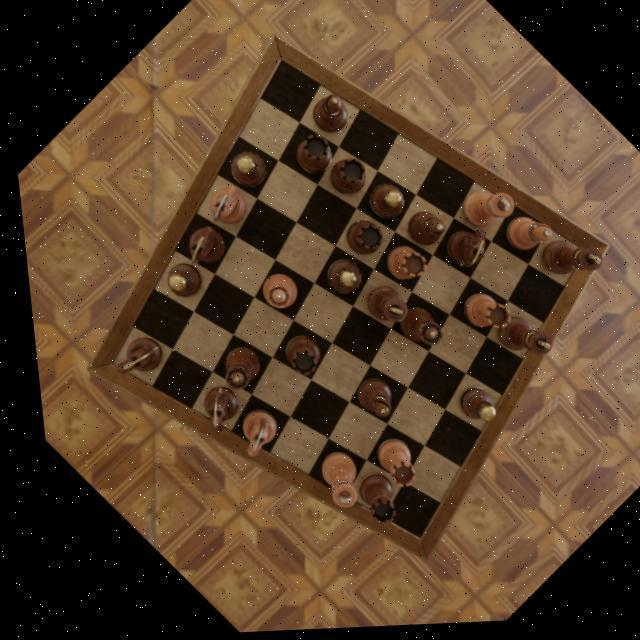chess-table-corners: (258, 44, 302, 88), (554, 238, 596, 279), (84, 342, 126, 382), (388, 521, 425, 556)
